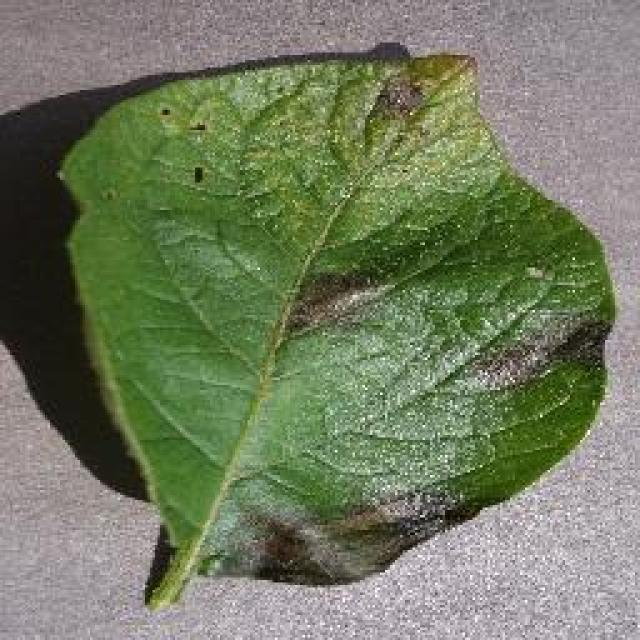late_blight: (52, 42, 618, 608)
